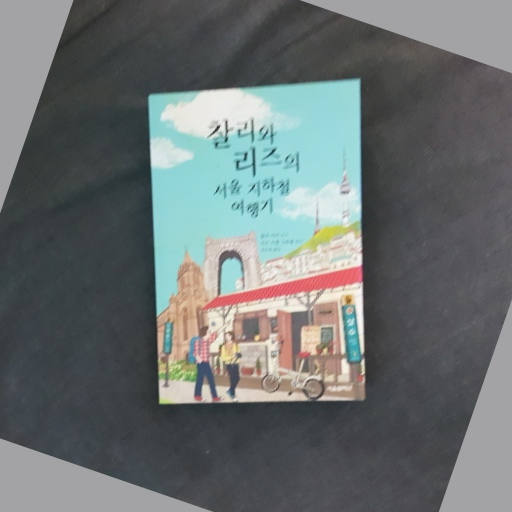Paper_0: (145, 75, 373, 411)
